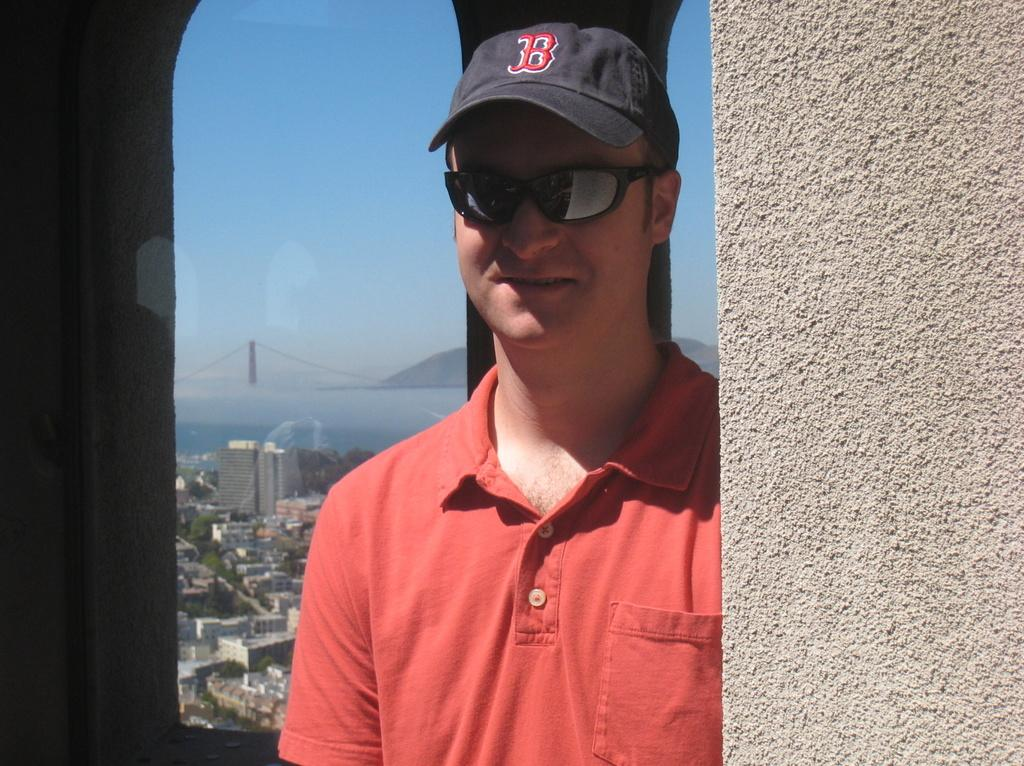Hat: (426, 20, 682, 168)
